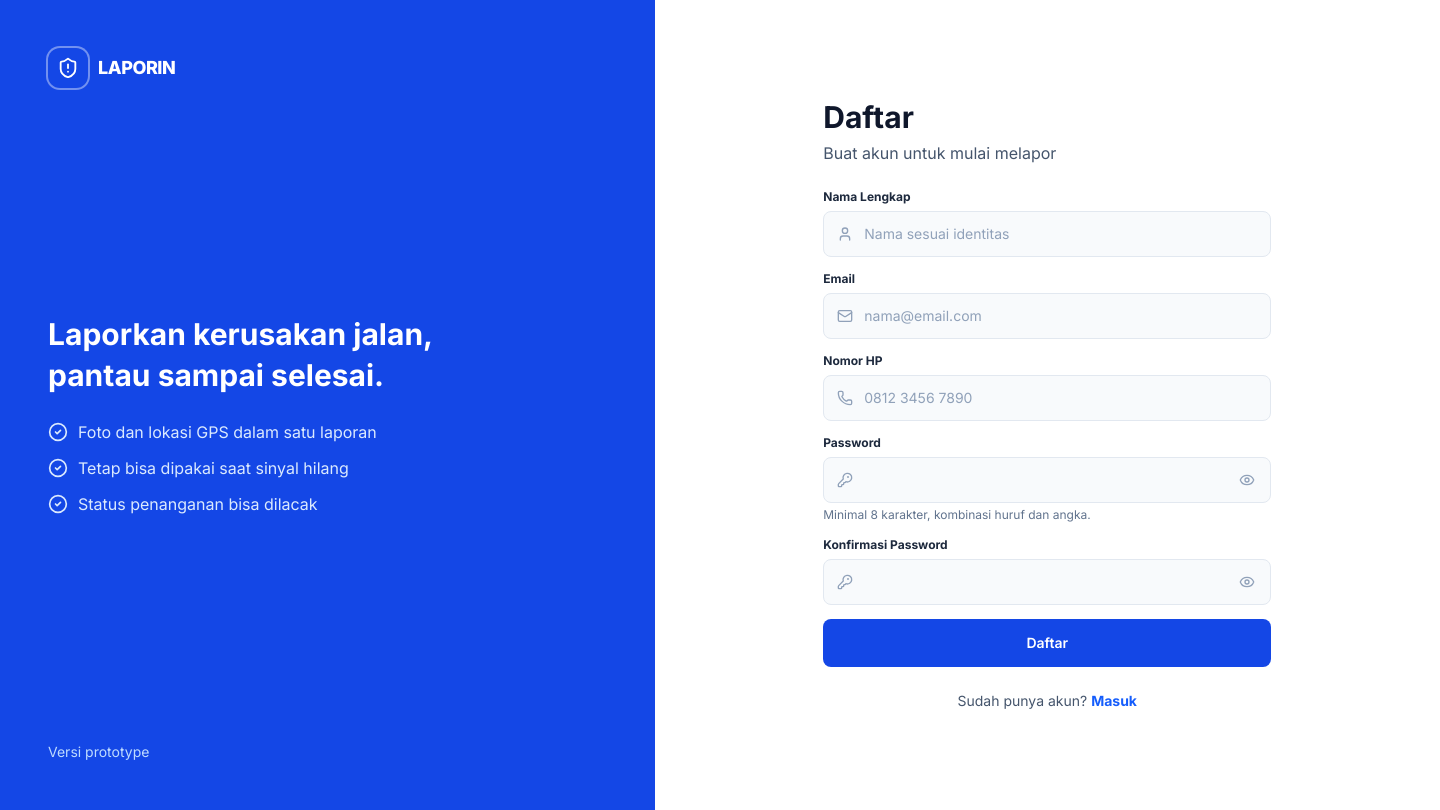
Test: autentikasi & route guard › form daftar menampilkan error validasi
Click the button "Daftar" at (1047, 643), box [823, 619, 1271, 667]
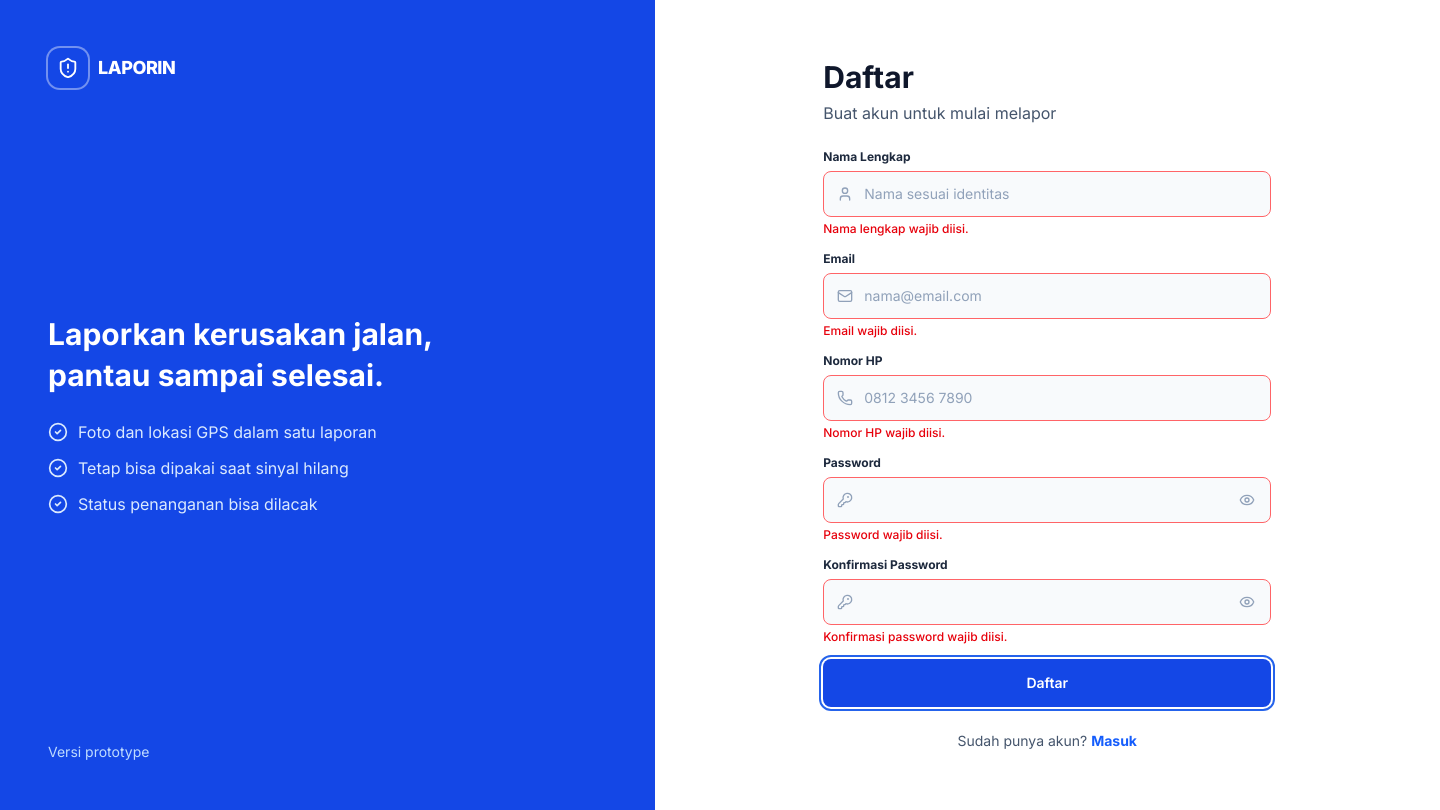
Check: the text "Nama lengkap wajib diisi." is shown, box [823, 221, 969, 236]
Check: the text "Email wajib diisi." is shown, box [823, 323, 917, 338]
Check: the text "Nomor HP wajib diisi." is shown, box [823, 425, 945, 440]
Type "salah" into the field labelled "Email" at (1047, 296), box [823, 273, 1271, 319]
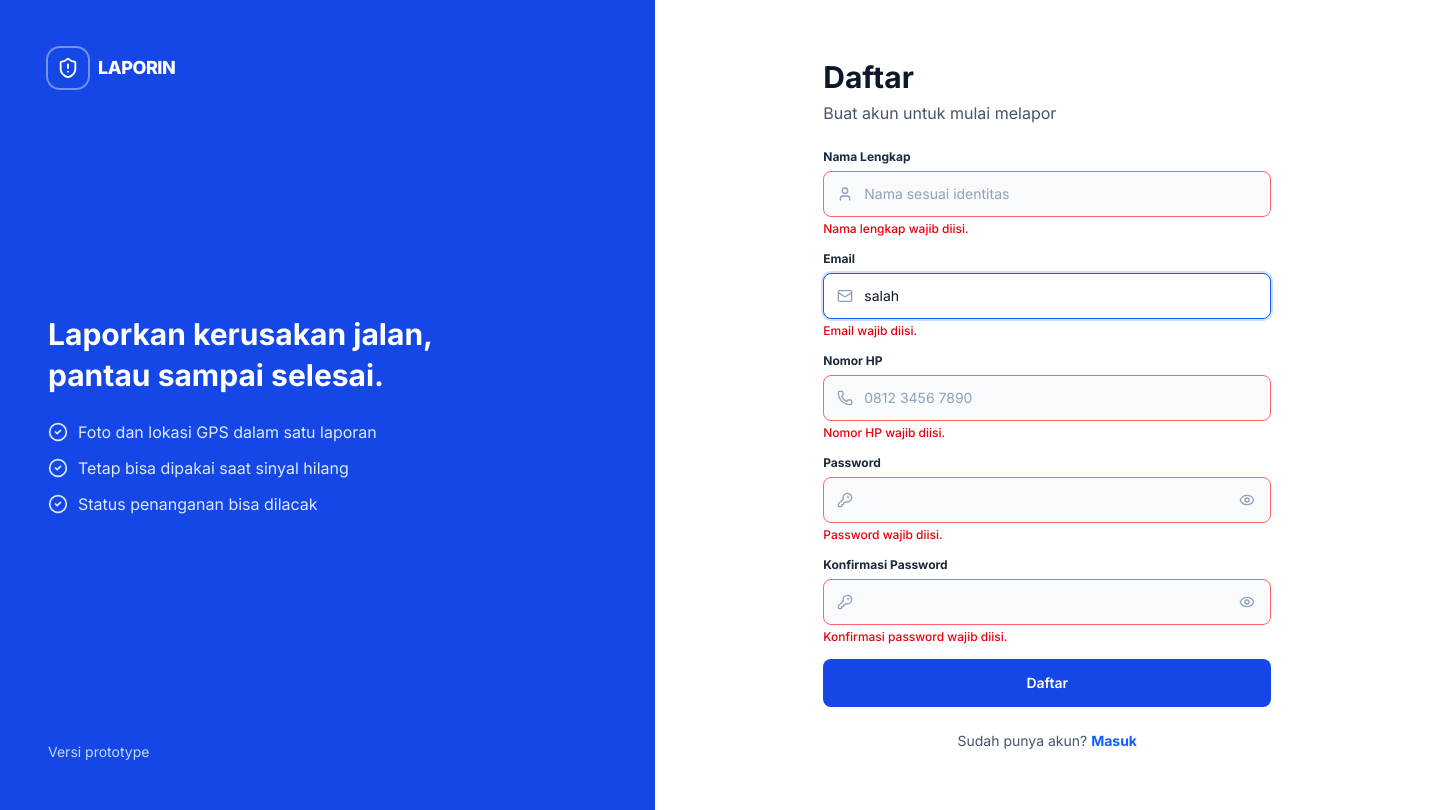
Type "rahasia123" into the password field labelled "Password" at (1047, 500), box [823, 477, 1271, 523]
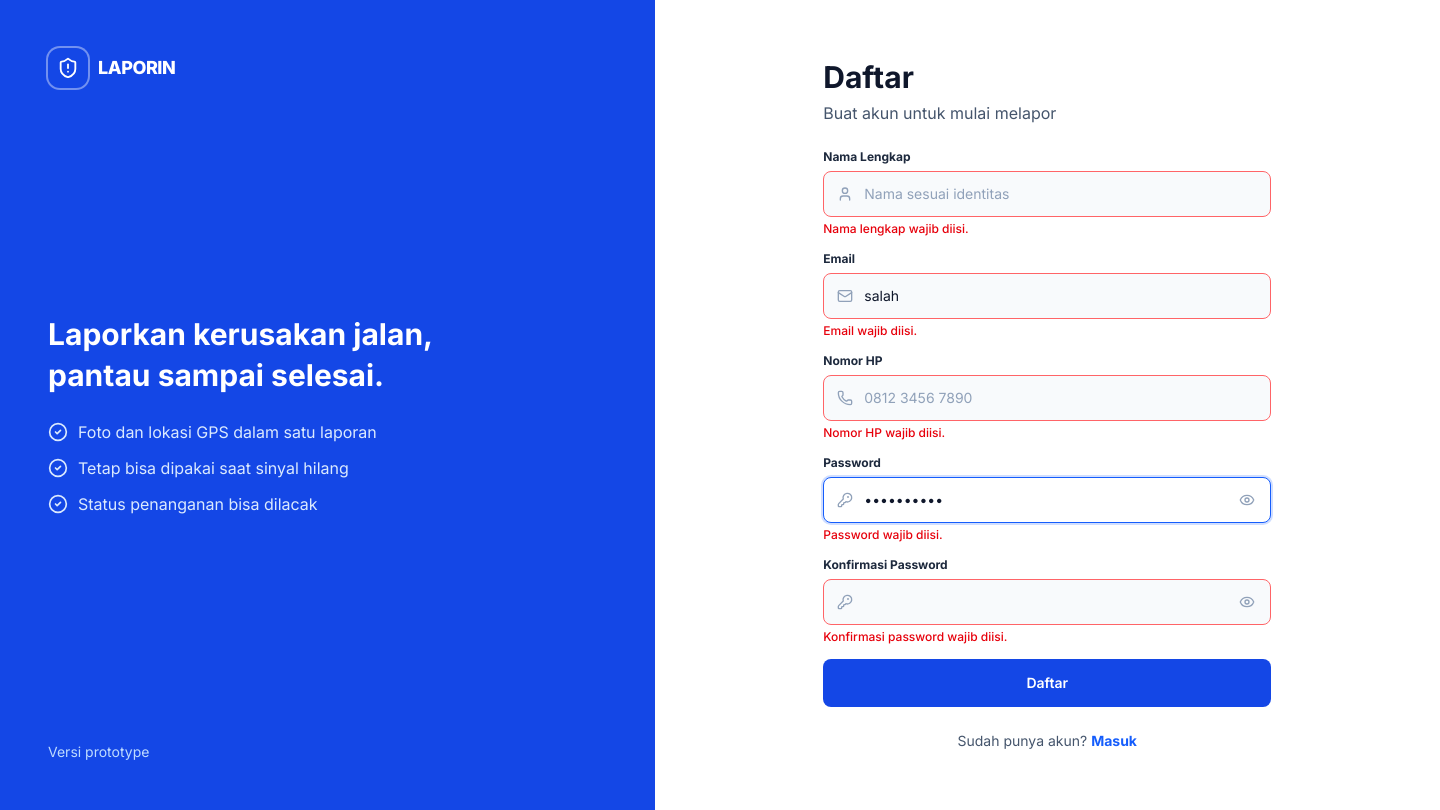
Type "beda1234" into the password field labelled "Konfirmasi Password" at (1047, 602), box [823, 579, 1271, 625]
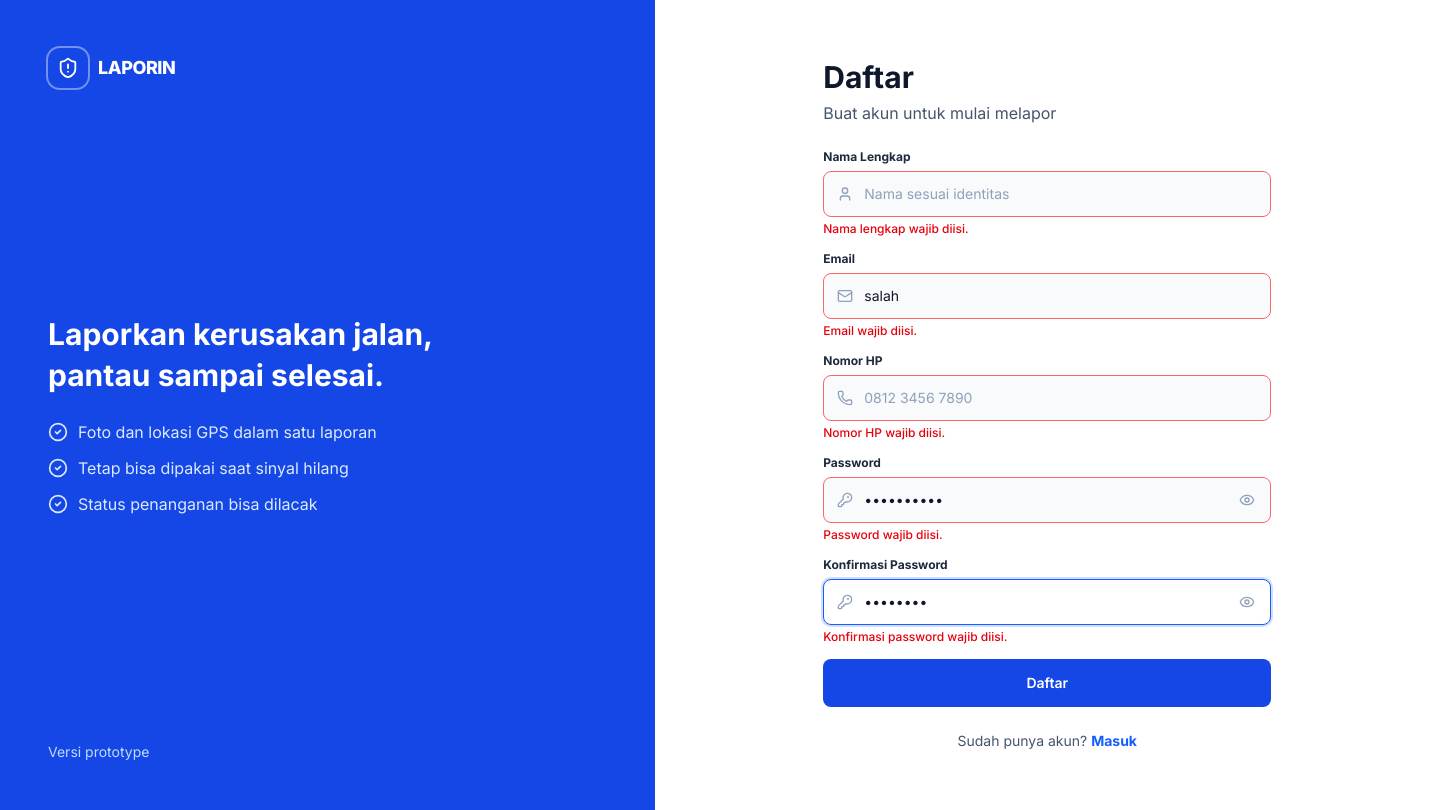
Click the button "Daftar" at (1047, 683), box [823, 659, 1271, 707]
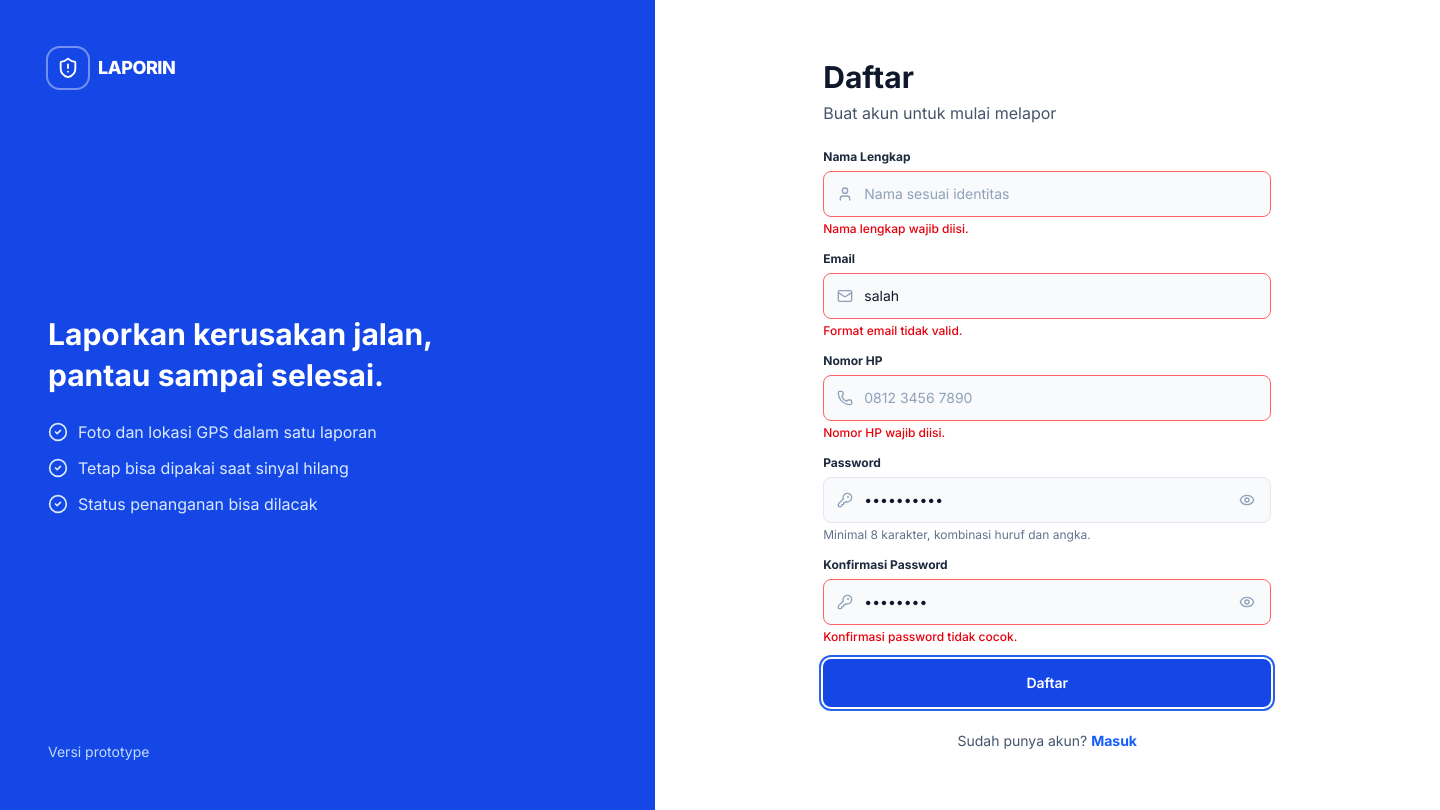
Check: the text "Format email tidak valid." is shown, box [823, 323, 962, 338]
Check: the text "Konfirmasi password tidak cocok." is shown, box [823, 629, 1017, 644]
